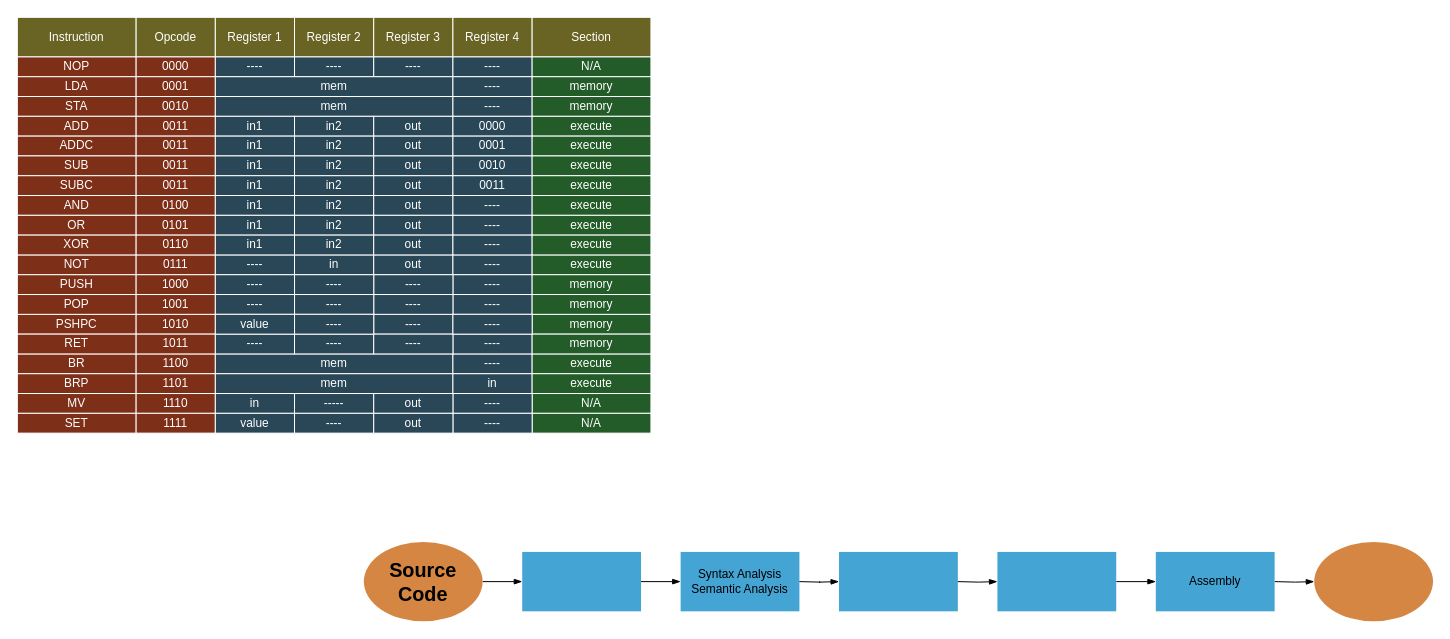
This 1450x639 diagram has some shape labels left out. The centre of each missing label's shape, as x and y in pixels:
"Intermediate Representation" goes at (x=898, y=581).
"Lexical Analysis" goes at (x=581, y=581).
"Machine Code" goes at (x=1373, y=581).
"Optimisation" goes at (x=1056, y=581).
